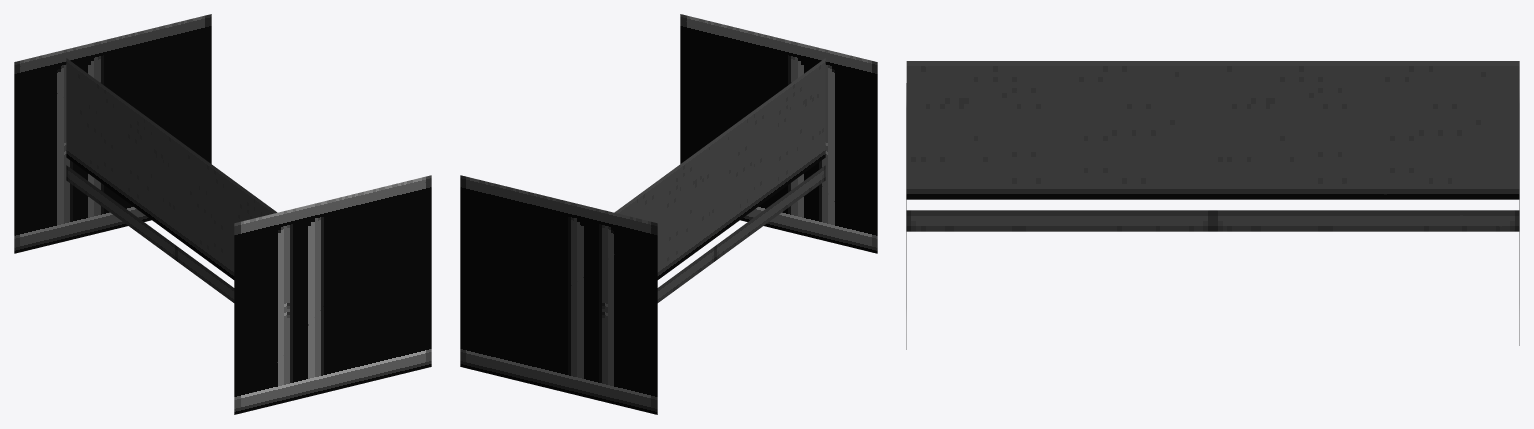
Rendered from metal_table_secondary.glb.
3 renders of one model, left to right at view 1: azimuth 30°, elevation 25°; view 2: azimuth 150°, elevation 25°; view 3: azimuth 270°, elevation 25°, orthographic. The views are drawn at different scales.
Parts seen in each view (by area): view 1: Object; view 2: Object; view 3: Object.
Part boxes in pixels (box(x1,y1,x2,y2)): Object: box(14, 14, 431, 414); Object: box(460, 14, 877, 414); Object: box(906, 61, 1519, 349).
Size of the model in its own units: 1.14 by 1.06 by 2.2.
3 materials, 3 textured.
